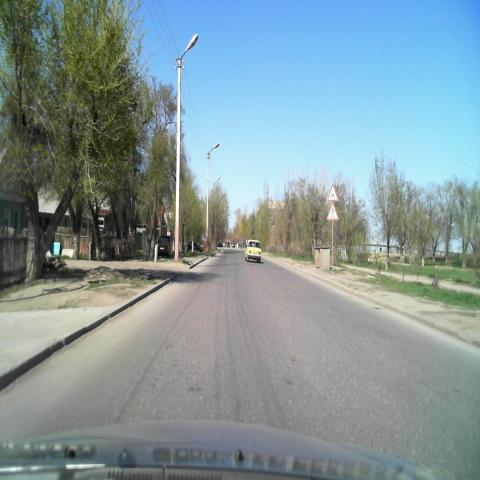1_12_2: (328, 183, 338, 201)
